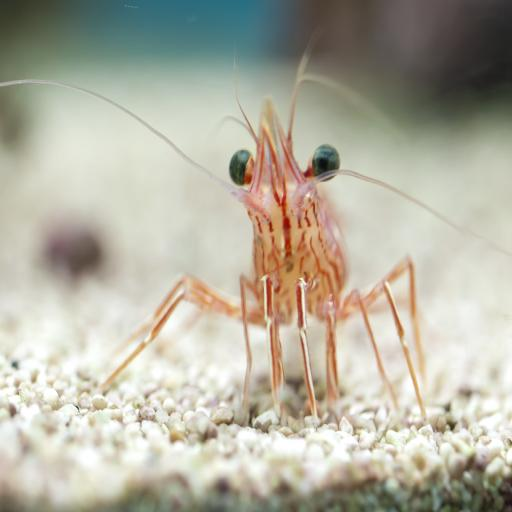Shrimp: (96, 40, 443, 450)
